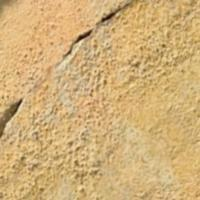crack: (0, 0, 129, 147)
